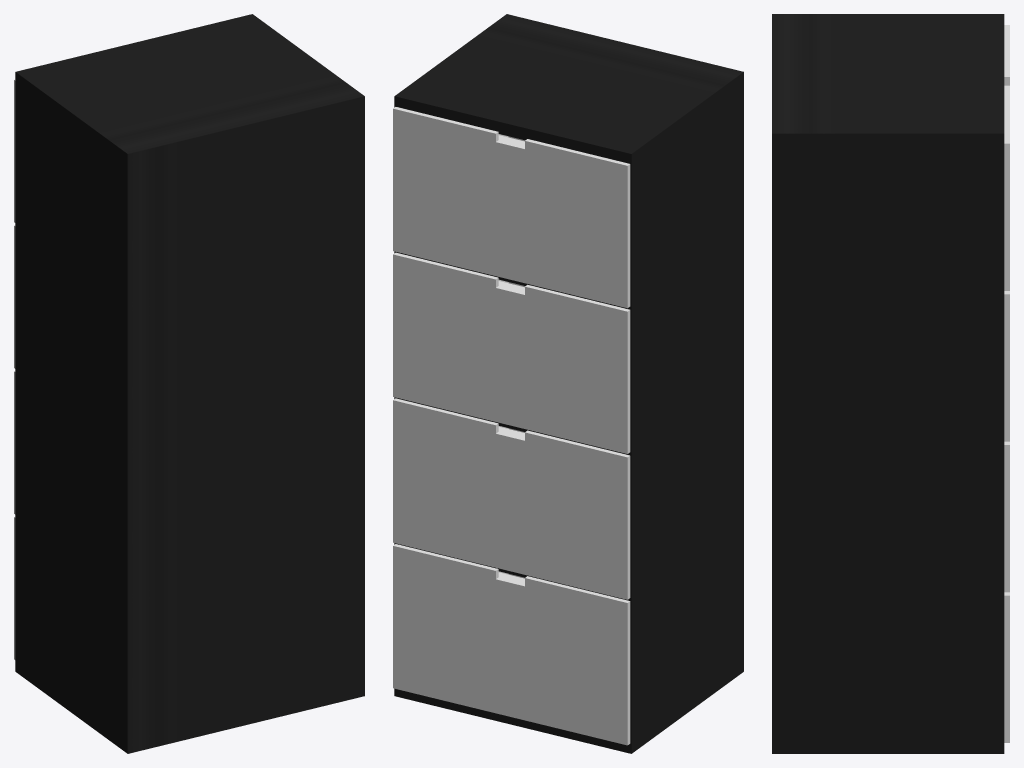
The model's file is Drawer42.glb.
3 renders of one model, left to right at view 1: azimuth 30°, elevation 25°; view 2: azimuth 150°, elevation 25°; view 3: azimuth 270°, elevation 25°, orthographic. The views are drawn at different scales.
Visible parts, largest first — view 1: Drawer42_Body; view 2: Drawer42_Body, Drawer42_2, Drawer42_1, Drawer42_4, Drawer42_3; view 3: Drawer42_Body, Drawer42_1, Drawer42_3, Drawer42_2, Drawer42_4.
Boxes of the visible parts, x1=… form: Drawer42_Body: x1=15, y1=14, x2=364, y2=753; Drawer42_Body: x1=394, y1=14, x2=743, y2=753; Drawer42_2: x1=393, y1=252, x2=630, y2=453; Drawer42_1: x1=393, y1=107, x2=630, y2=308; Drawer42_4: x1=393, y1=544, x2=630, y2=745; Drawer42_3: x1=393, y1=398, x2=630, y2=599; Drawer42_Body: x1=772, y1=14, x2=1004, y2=753; Drawer42_1: x1=1004, y1=25, x2=1009, y2=290; Drawer42_3: x1=1004, y1=441, x2=1009, y2=592; Drawer42_2: x1=1004, y1=291, x2=1009, y2=441; Drawer42_4: x1=1004, y1=592, x2=1009, y2=742.
Bounding box in the file's own units: 0.7996 × 1.93 × 0.6717.
1 material, 1 textured.
